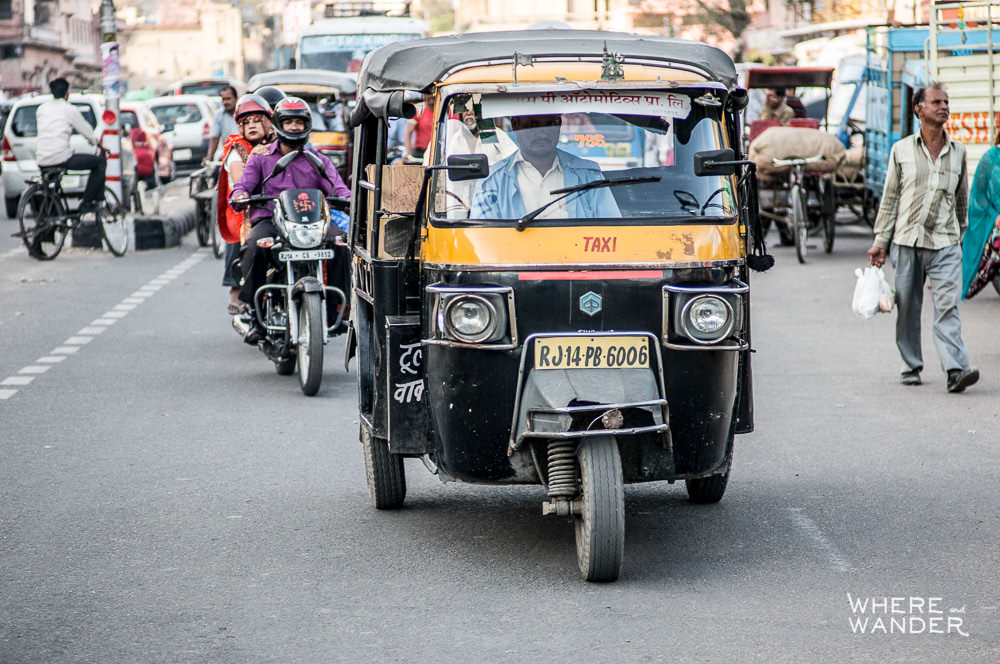bike: (220, 86, 344, 400)
car: (6, 85, 138, 197), (152, 93, 223, 159)
rickshaw: (346, 23, 784, 589)
